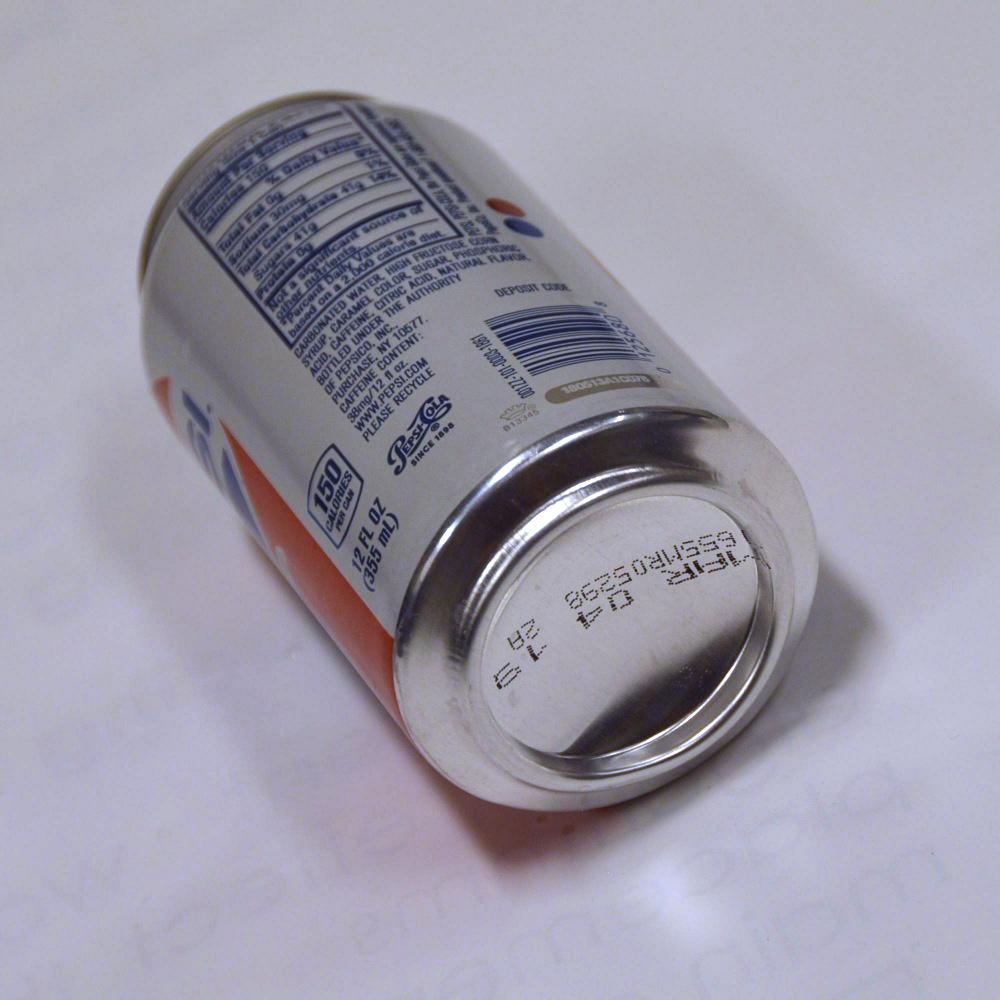Metal: (136, 72, 825, 827)
